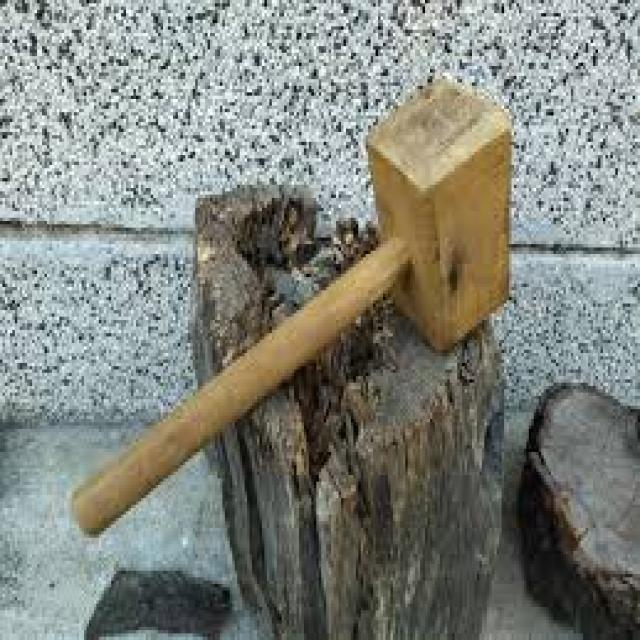hammer: (68, 76, 528, 551)
